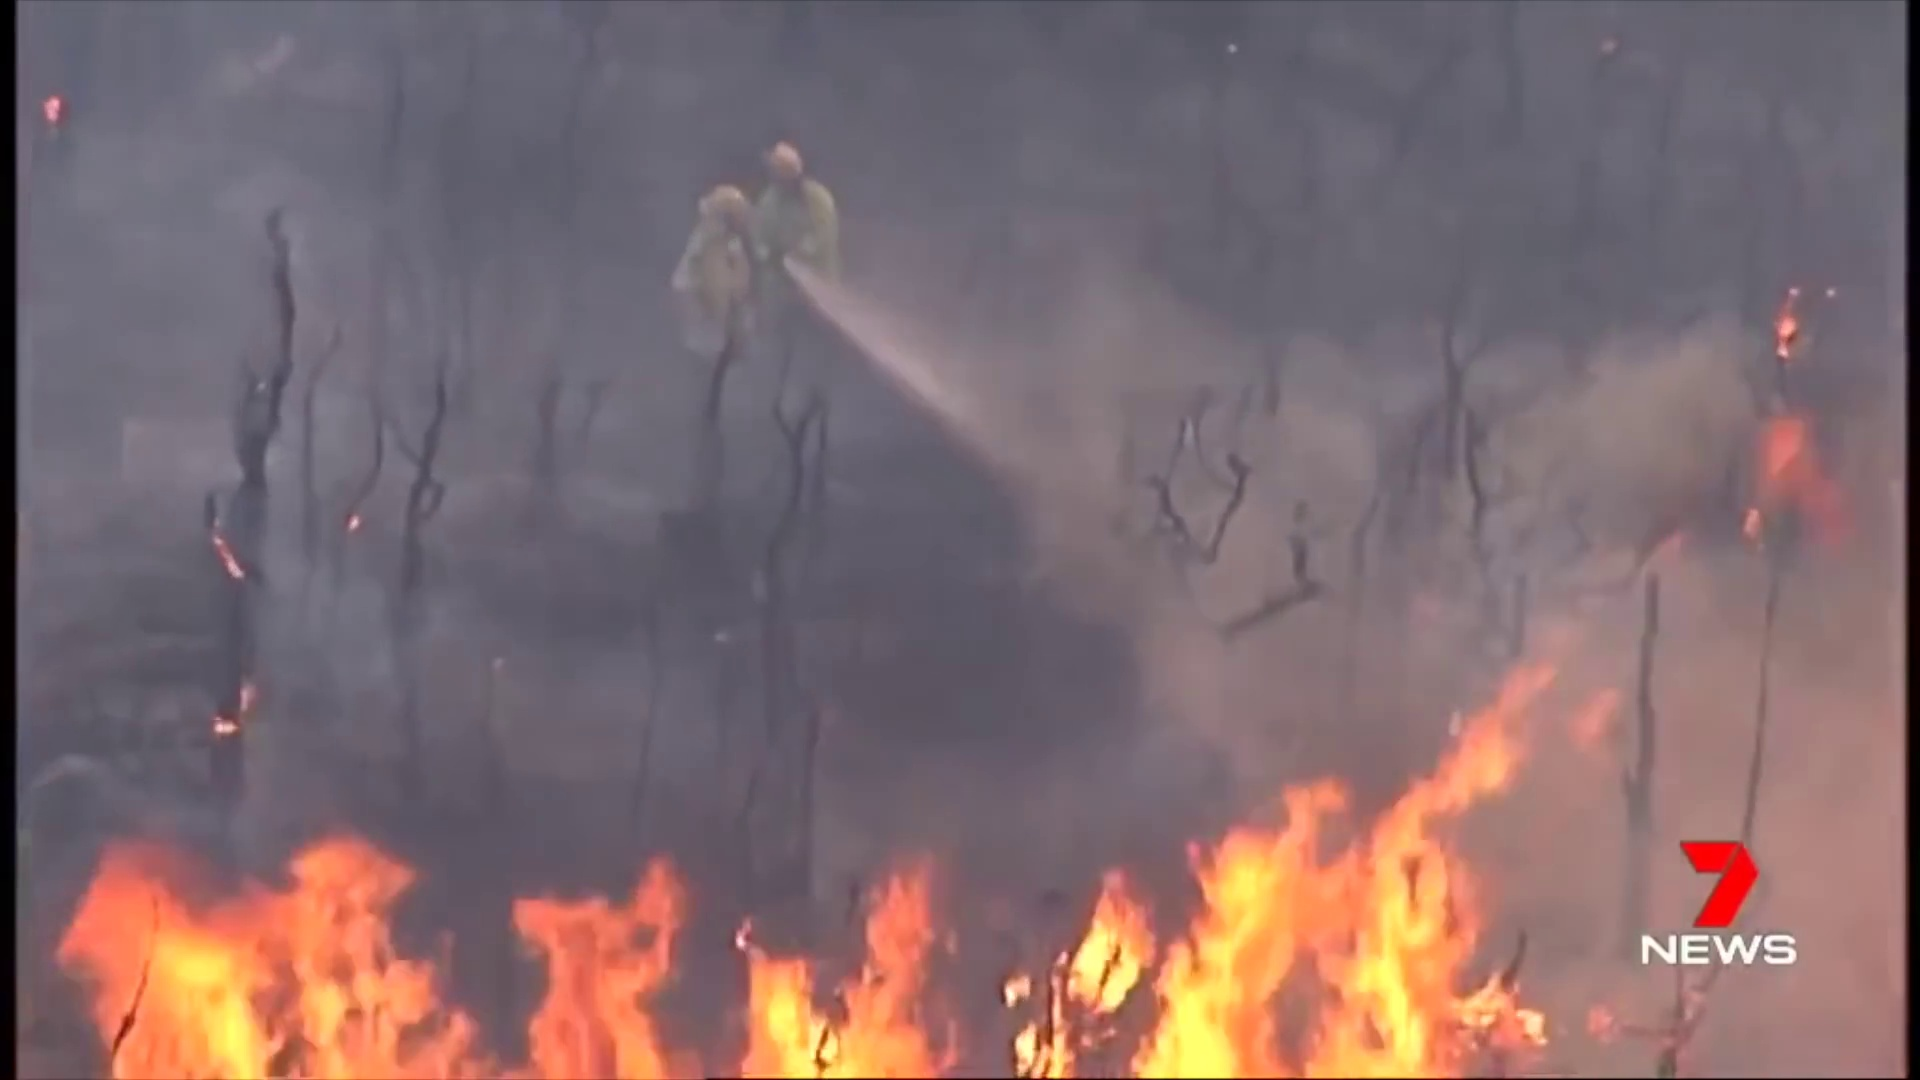fire: (1168, 770, 1478, 1080), (68, 840, 433, 1080), (735, 874, 933, 1080), (516, 855, 689, 1080), (1075, 871, 1146, 1003)
